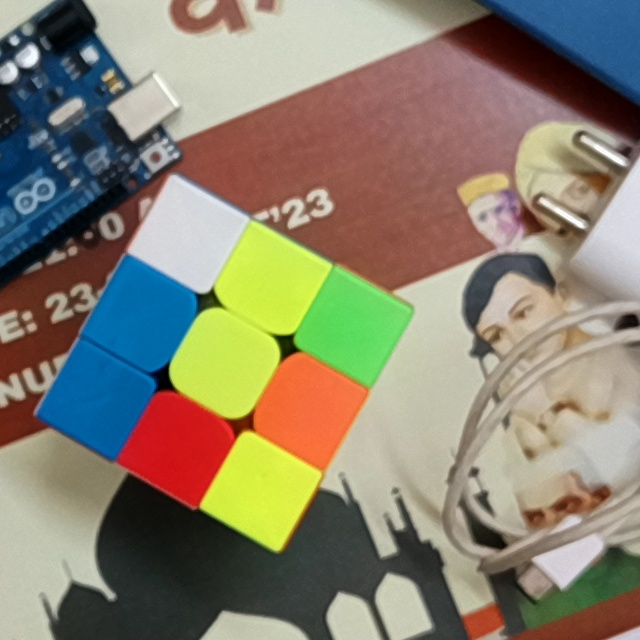tile: (191, 326, 258, 396), (320, 294, 385, 360), (239, 246, 302, 313), (67, 364, 132, 428), (111, 282, 175, 346), (276, 377, 339, 441), (144, 416, 211, 476), (230, 456, 292, 520), (160, 204, 221, 266)
